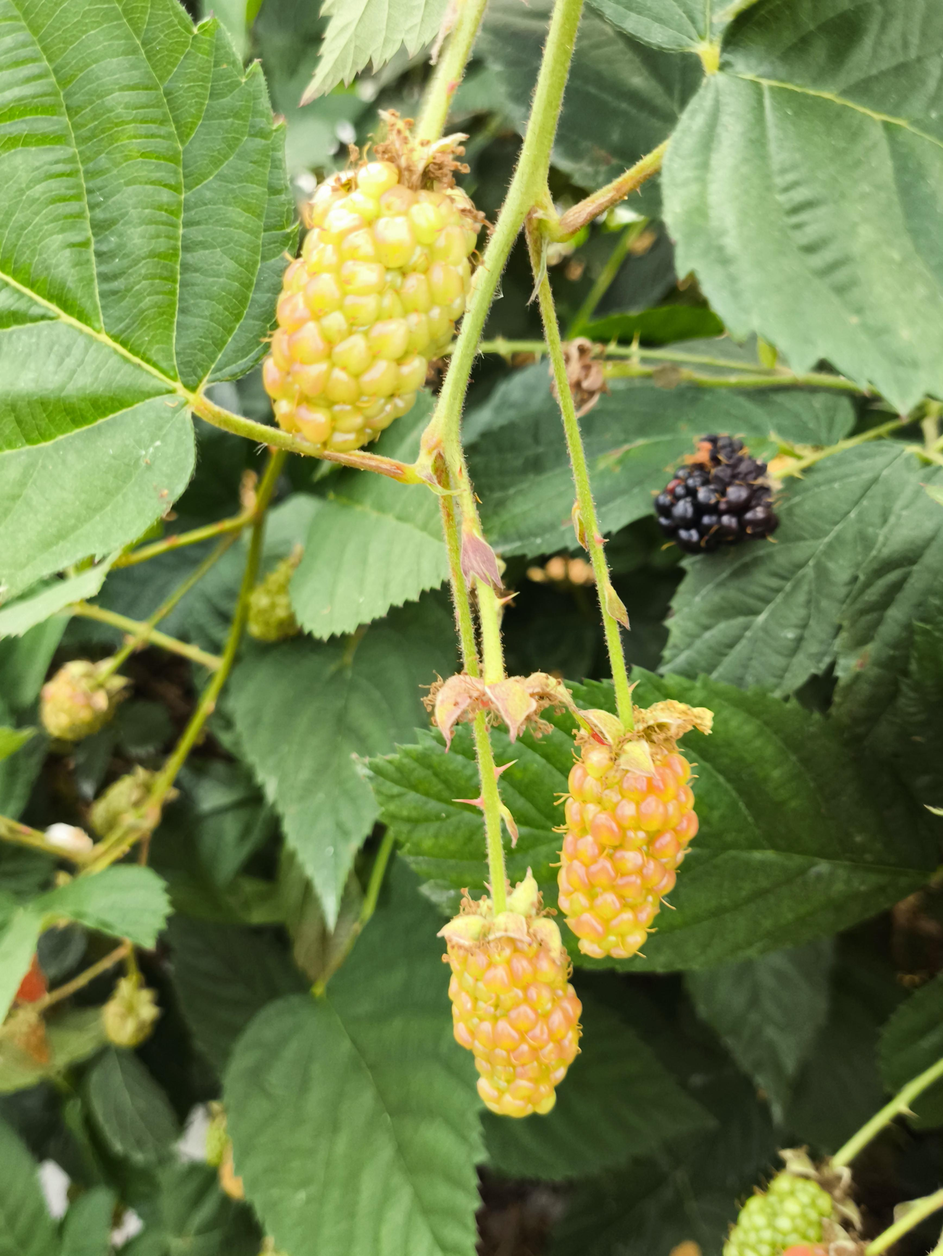maduro: (655, 435, 778, 554)
verde: (263, 170, 477, 467), (557, 740, 698, 959), (441, 899, 581, 1118), (40, 658, 130, 742)
